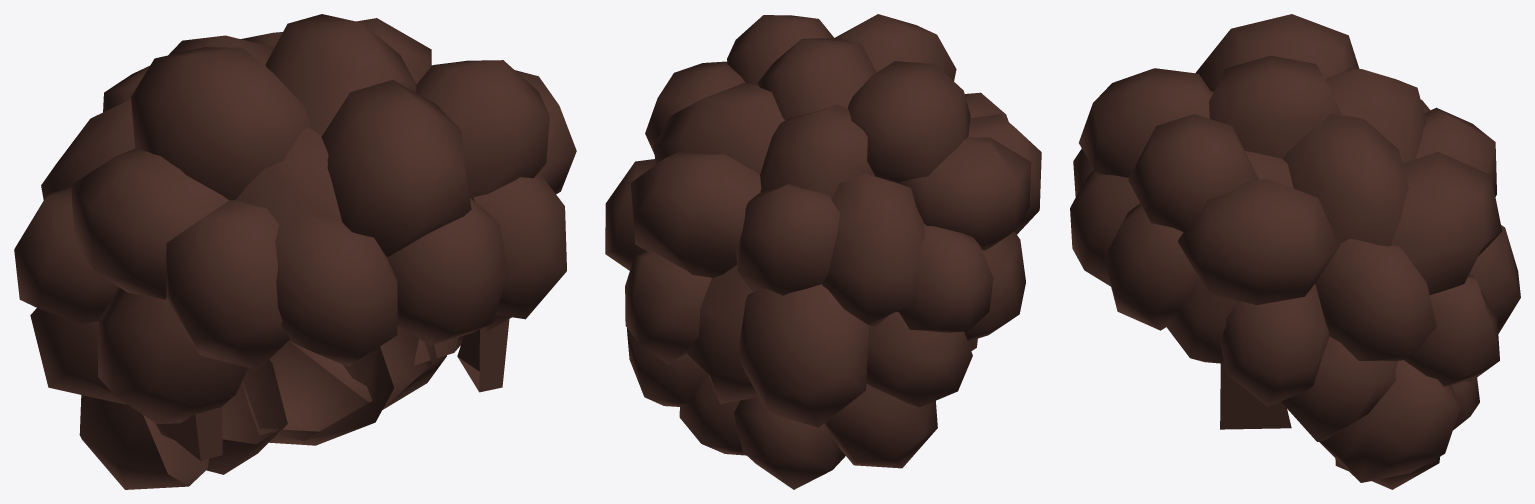
The model's file is Male_Hairs_04_v3.fbx.
3 views of the same model, side by side, from view 1: azimuth 30°, elevation 25°; view 2: azimuth 150°, elevation 25°; view 3: azimuth 270°, elevation 25° (orthographic). The views are drawn at different scales.
Visible parts, largest first — view 1: Male_Hairs_04_v3; view 2: Male_Hairs_04_v3; view 3: Male_Hairs_04_v3.
Boxes of the visible parts, x1,y1,x2,y2 form: Male_Hairs_04_v3: (14, 14, 576, 489); Male_Hairs_04_v3: (605, 14, 1041, 489); Male_Hairs_04_v3: (1070, 14, 1520, 489).
Bounding box in the file's own units: 78.16 × 75.37 × 76.42.
